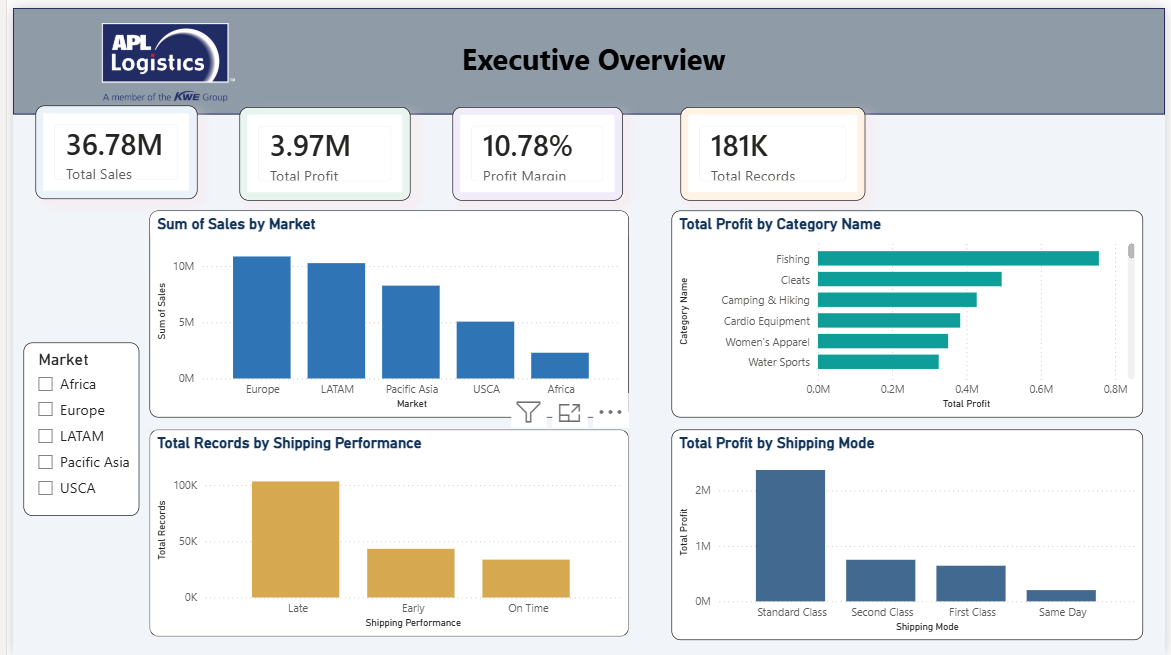

What the dashboard file says about the page in this screenshot:
{"tool":"powerbi","page":{"name":"Executive Overview","canvas":[1280,720],"ordinal":0},"visuals":[{"type":"shape","box":[0,0,1280,118.3],"z":0},{"type":"cardVisual","fields":{"Data":["SupplyChain.Total Sales"]},"box":[24.3,108.6,180,104.3],"z":1000},{"type":"cardVisual","fields":{"Data":["SupplyChain.Total Profit"]},"box":[251.7,109.2,190,104.2],"z":2000},{"type":"cardVisual","fields":{"Data":["SupplyChain.Profit Margin"]},"box":[488.3,109.2,189.2,104.2],"z":3000},{"type":"cardVisual","fields":{"Data":["SupplyChain.Total Records"]},"box":[741.7,109.2,205,104.2],"z":4000},{"type":"clusteredColumnChart","fields":{"Category":["SupplyChain.Market"],"Y":["Sum(SupplyChain.Sales)"]},"box":[151.4,225.7,532.9,230],"z":5000},{"type":"clusteredBarChart","fields":{"Category":["SupplyChain.Category Name"],"Y":["SupplyChain.Total Profit"]},"box":[731.4,225.7,524.3,230],"z":6000},{"type":"clusteredColumnChart","fields":{"Category":["SupplyChain.Shipping Performance"],"Y":["SupplyChain.Total Records"]},"box":[151.4,468.6,532.9,230],"z":7000},{"type":"clusteredColumnChart","fields":{"Category":["SupplyChain.Shipping Mode"],"Y":["SupplyChain.Total Profit"]},"box":[731.4,468.6,524.3,234.3],"z":8000},{"type":"textbox","box":[471.7,28.3,373.3,63.3],"z":9000},{"type":"image","box":[76,16,192,88],"z":10000},{"type":"slicer","fields":{"Values":["SupplyChain.Market"]},"box":[11.4,371.4,128.6,192.9],"z":11000}]}

Visuals, with their boxes in screenshot pixels (x1, y1, x2, y2), scaled from the page's 1280x720 canvas onto the 1171x655 screenshot:
shape: [x1=0, y1=0, x2=1170, y2=108]
cardVisual - SupplyChain.Total Sales: [x1=22, y1=99, x2=187, y2=194]
cardVisual - SupplyChain.Total Profit: [x1=230, y1=99, x2=404, y2=194]
cardVisual - SupplyChain.Profit Margin: [x1=447, y1=99, x2=620, y2=194]
cardVisual - SupplyChain.Total Records: [x1=679, y1=99, x2=866, y2=194]
clusteredColumnChart - SupplyChain.Market x Sum(SupplyChain.Sales): [x1=139, y1=205, x2=626, y2=415]
clusteredBarChart - SupplyChain.Category Name x SupplyChain.Total Profit: [x1=669, y1=205, x2=1149, y2=415]
clusteredColumnChart - SupplyChain.Shipping Performance x SupplyChain.Total Records: [x1=139, y1=426, x2=626, y2=636]
clusteredColumnChart - SupplyChain.Shipping Mode x SupplyChain.Total Profit: [x1=669, y1=426, x2=1149, y2=639]
textbox: [x1=432, y1=26, x2=773, y2=83]
image: [x1=70, y1=15, x2=245, y2=95]
slicer - SupplyChain.Market: [x1=10, y1=338, x2=128, y2=513]
